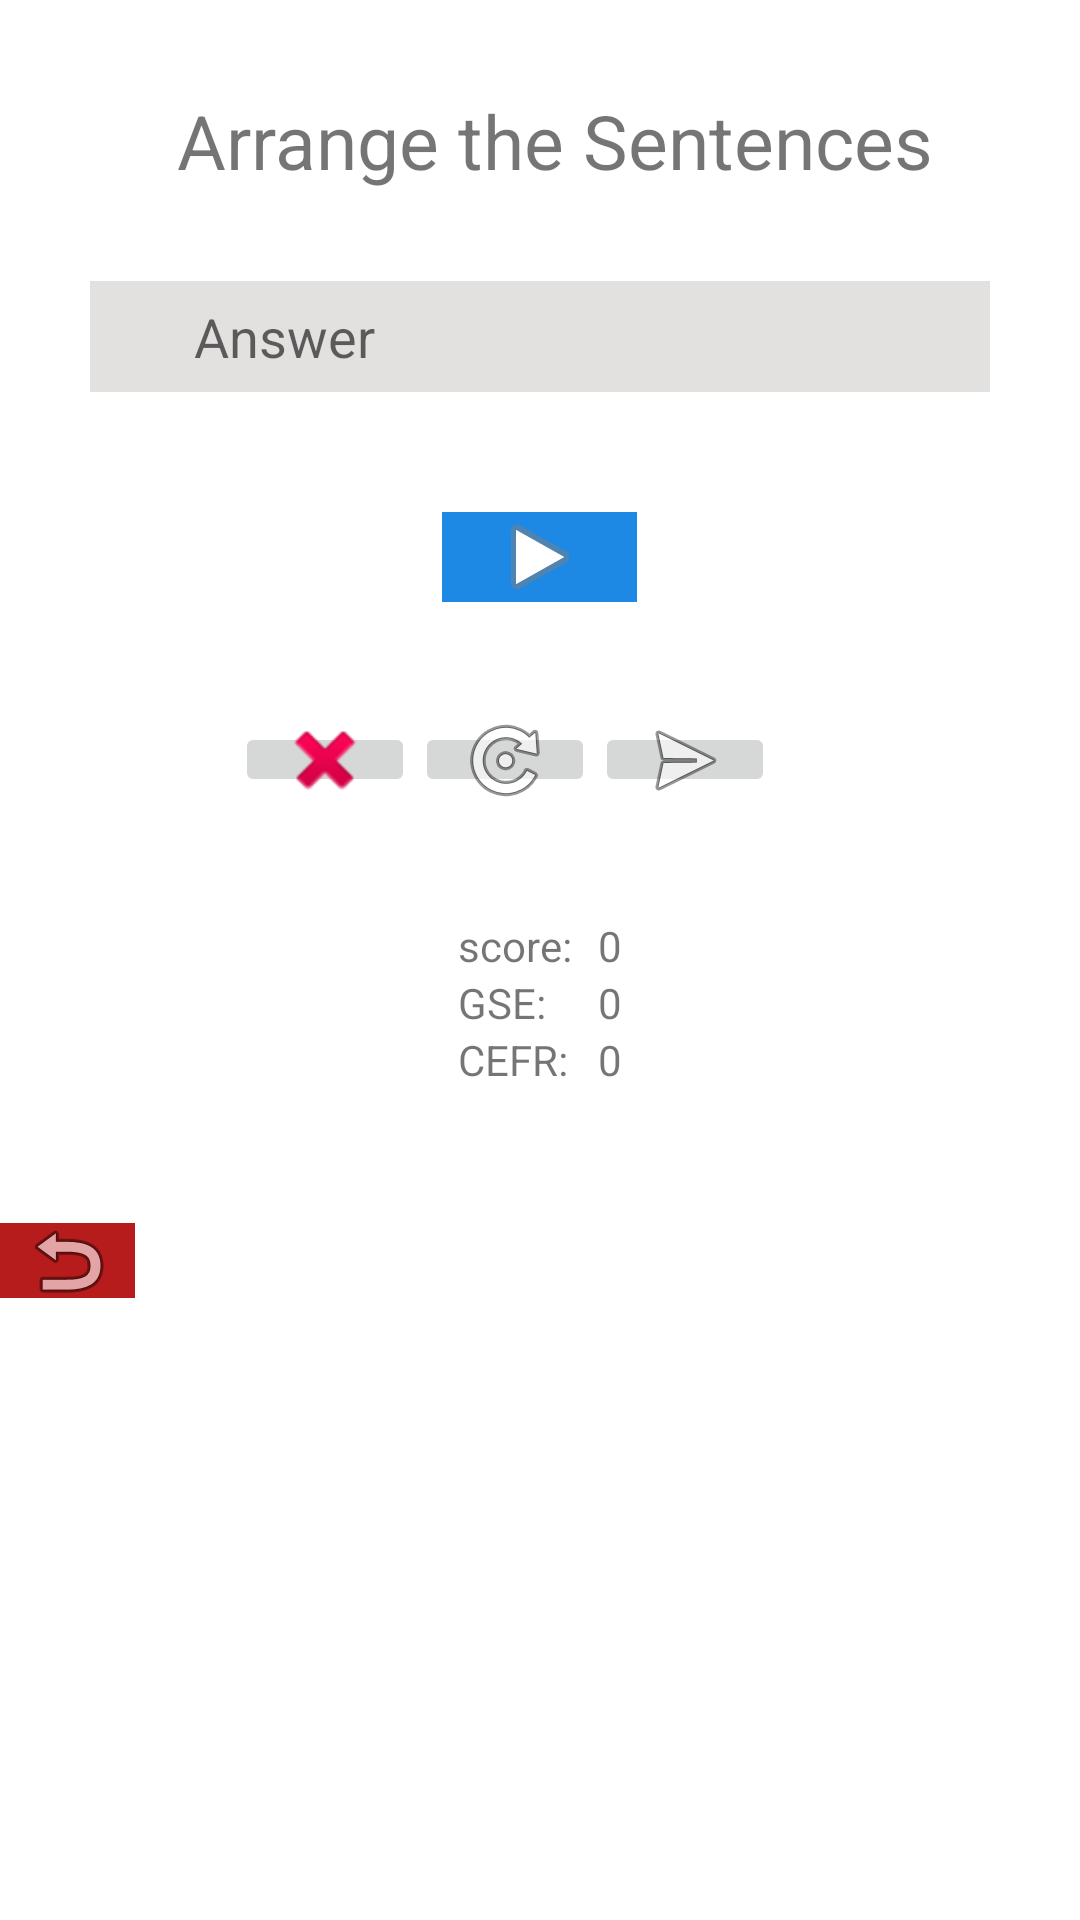

Icons on this 1080px x 1920px Android screen, each with the point to tap as [x,y]:
delete: [325,760]
play: [539,557]
revert: [67,1260]
rotate: [505,760]
send: [685,760]
